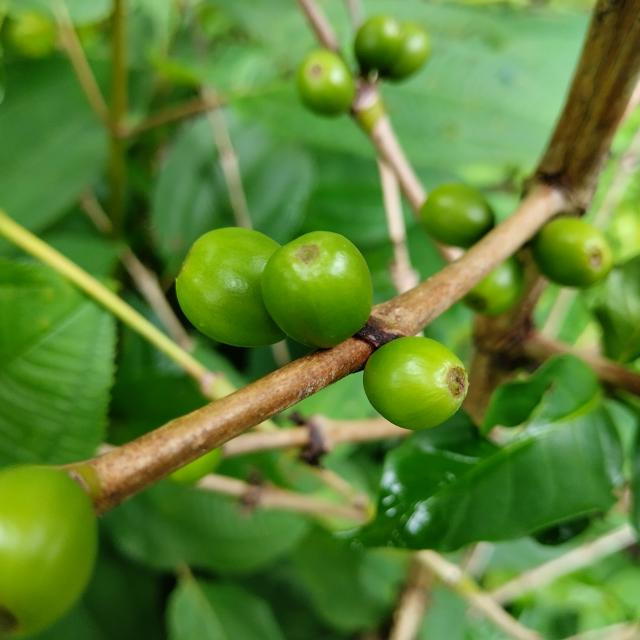green: (0, 466, 96, 635), (175, 227, 286, 347), (261, 231, 373, 348), (364, 337, 469, 431), (532, 217, 614, 287), (420, 184, 495, 248), (297, 49, 356, 115)
